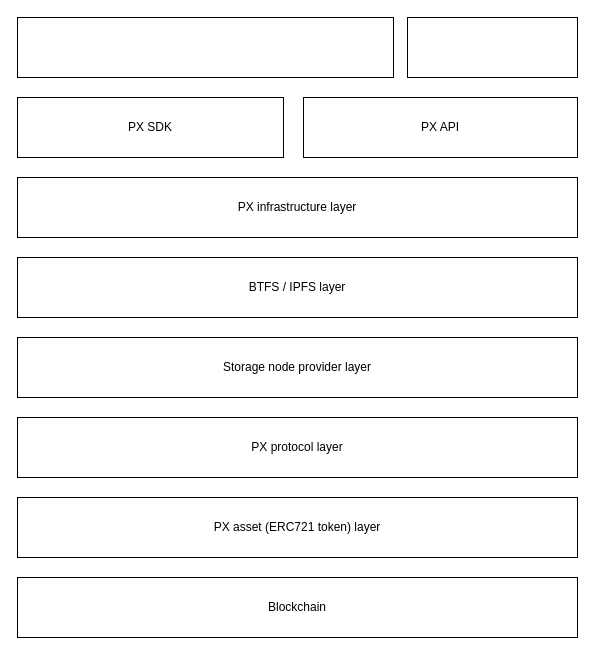
This 595x655 diagram has some shape labels left out. The shapes that lost their labels are listed below. From the top down, each one's centre as x and y in pixels, then its label:
At (x=205, y=47): "PX App (Drive + Dev Dashboard)".
At (x=492, y=47): "PX Storage NFT".
